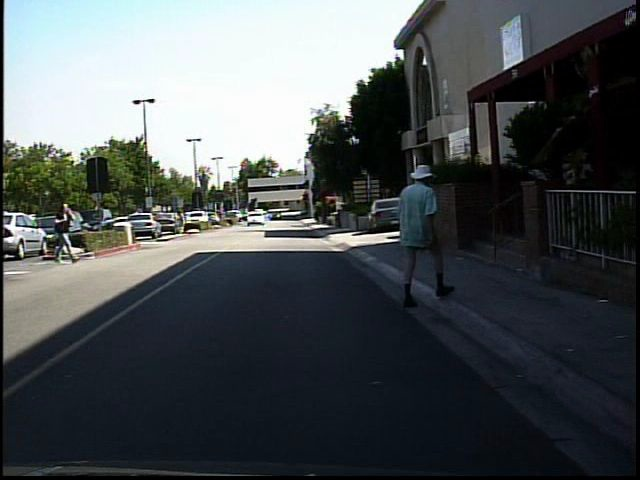person: (388, 150, 456, 313), (51, 195, 81, 269), (173, 206, 188, 230)
